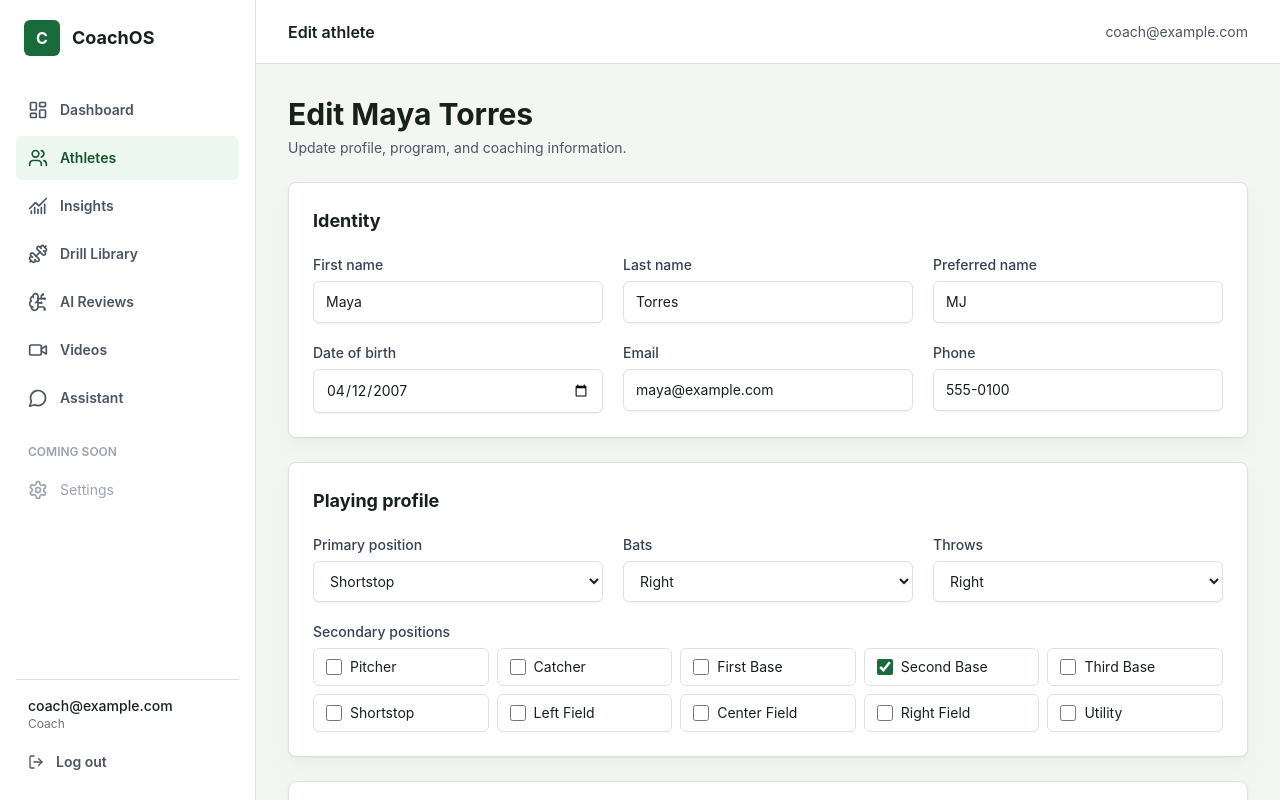
Test: athlete workflows › edits an athlete and maps backend field validation
This screenshot has width=1280, height=800.
Replace the text in the field labelled "Email" with "other@example.com" at (768, 390), box [623, 369, 913, 411]
(page scrolled)
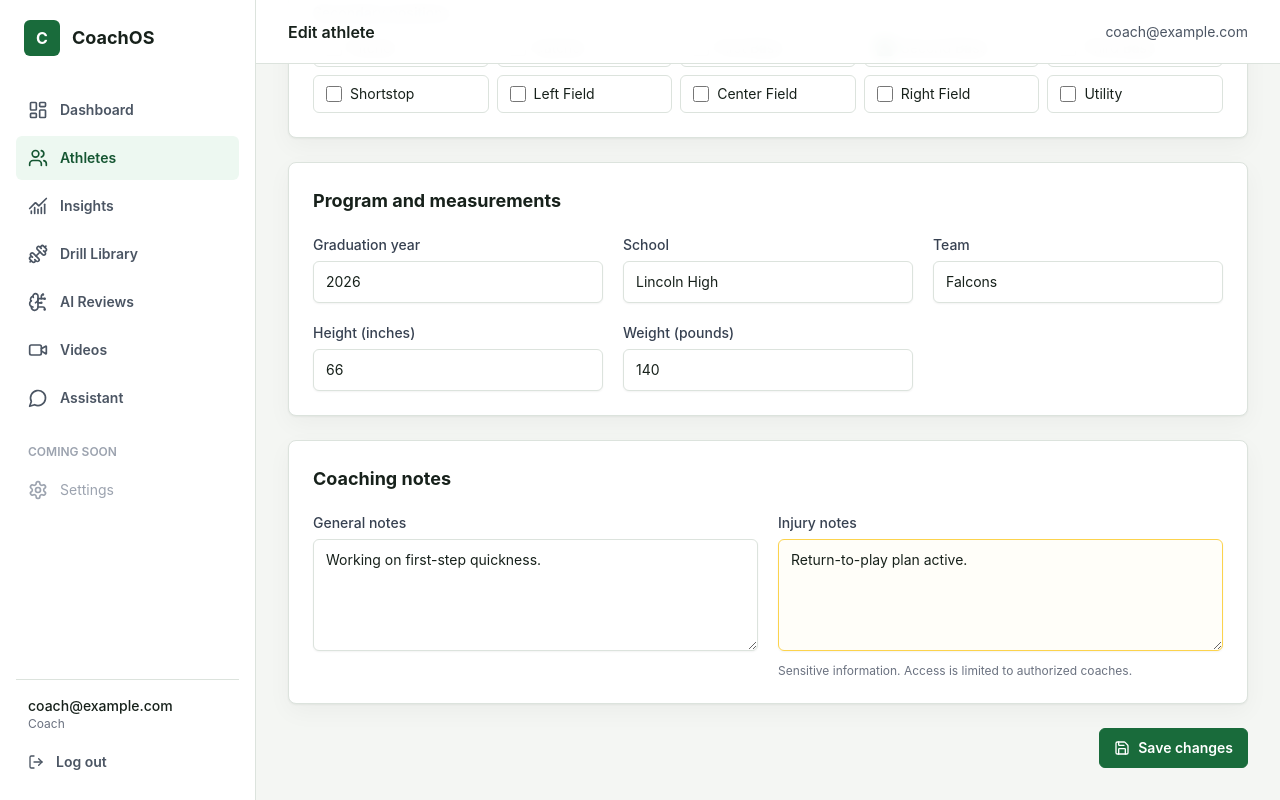
Click the button "Save changes" at (1174, 748), box [1099, 728, 1248, 768]
(page scrolled)
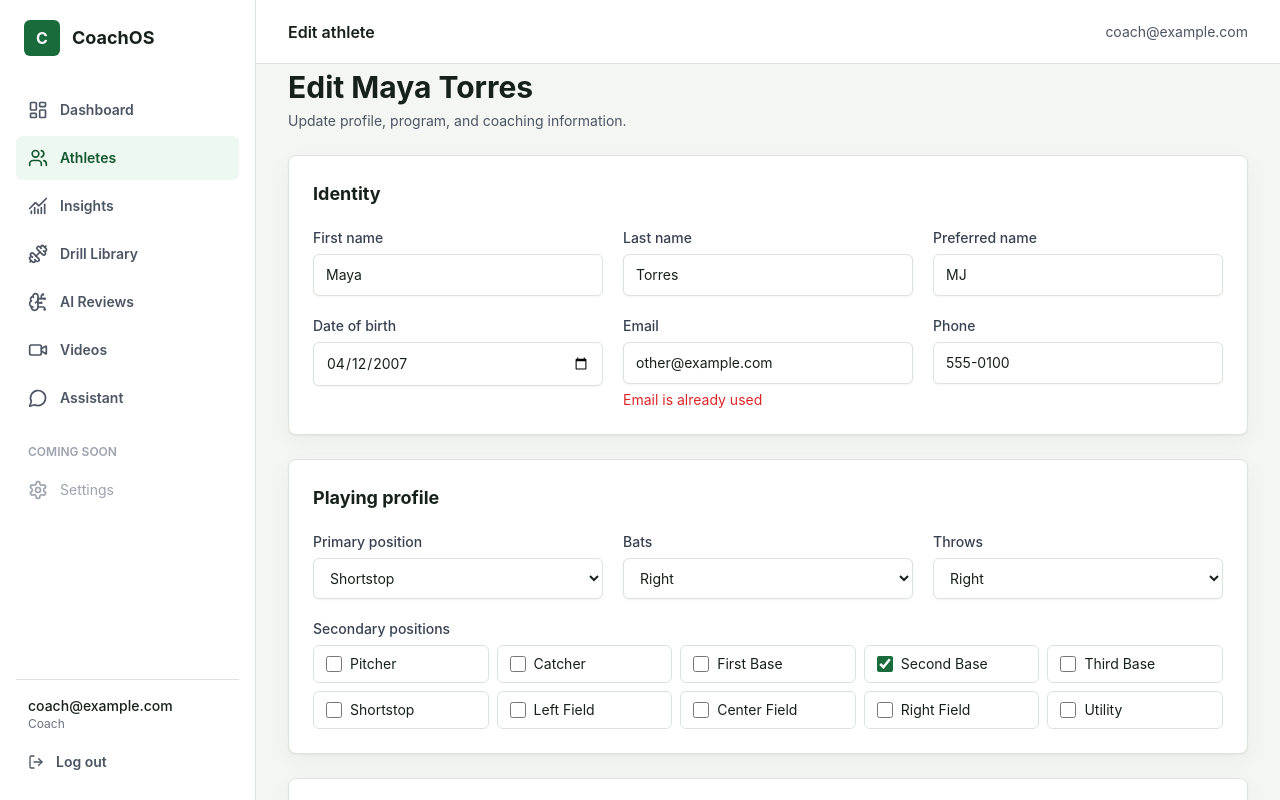
Expected: the text "Email is already used" is shown, [623, 391, 762, 408]
